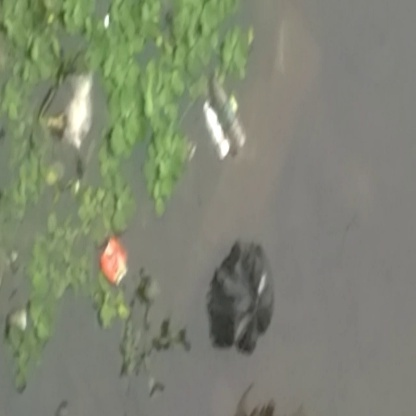plastic-bag: (205, 237, 285, 354)
